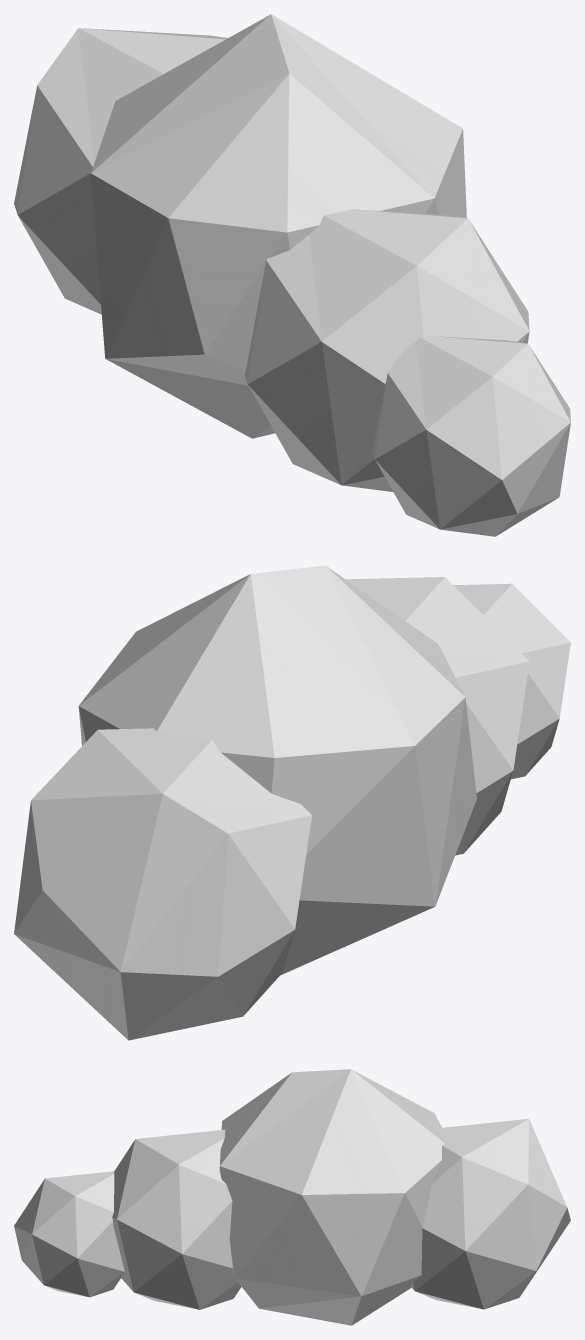
File: cloud01.fbx
3 renders of one model, top to bottom at view 1: azimuth 30°, elevation 25°; view 2: azimuth 150°, elevation 25°; view 3: azimuth 270°, elevation 25°, orthographic. The views are drawn at different scales.
Parts seen in each view (by area): view 1: cloud, Sphere_1, Sphere_2, Sphere_3; view 2: cloud, Sphere_3, Sphere_1, Sphere_2; view 3: cloud, Sphere_3, Sphere_1, Sphere_2.
Part boxes in pixels (<box>): cloud: <box>91,14,466,438</box>; Sphere_1: <box>244,209,529,491</box>; Sphere_2: <box>372,336,570,536</box>; Sphere_3: <box>14,28,227,314</box>; cloud: <box>78,565,476,975</box>; Sphere_3: <box>14,728,311,1040</box>; Sphere_1: <box>346,577,529,855</box>; Sphere_2: <box>453,583,570,779</box>; cloud: <box>219,1069,445,1325</box>; Sphere_3: <box>410,1118,570,1309</box>; Sphere_1: <box>112,1129,241,1309</box>; Sphere_2: <box>14,1171,124,1297</box>.
Bounding box in the file's own units: 3707 × 4183 × 8582.
